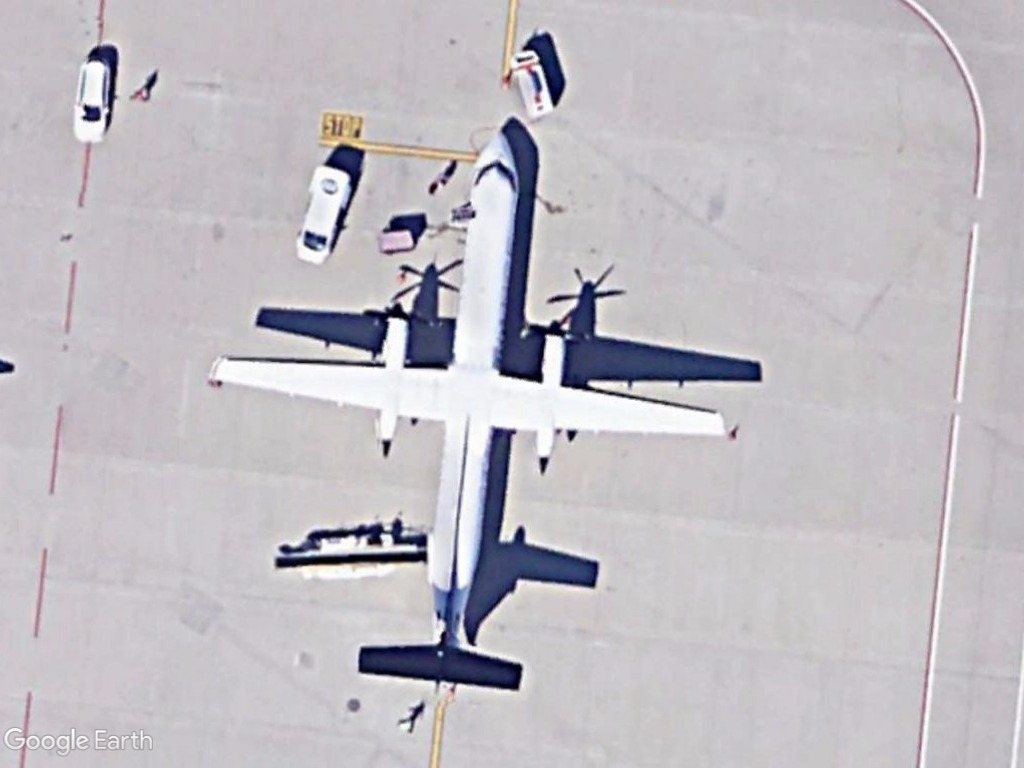car: (293, 170, 353, 268), (67, 58, 114, 147)
propeller: (201, 117, 729, 711)
